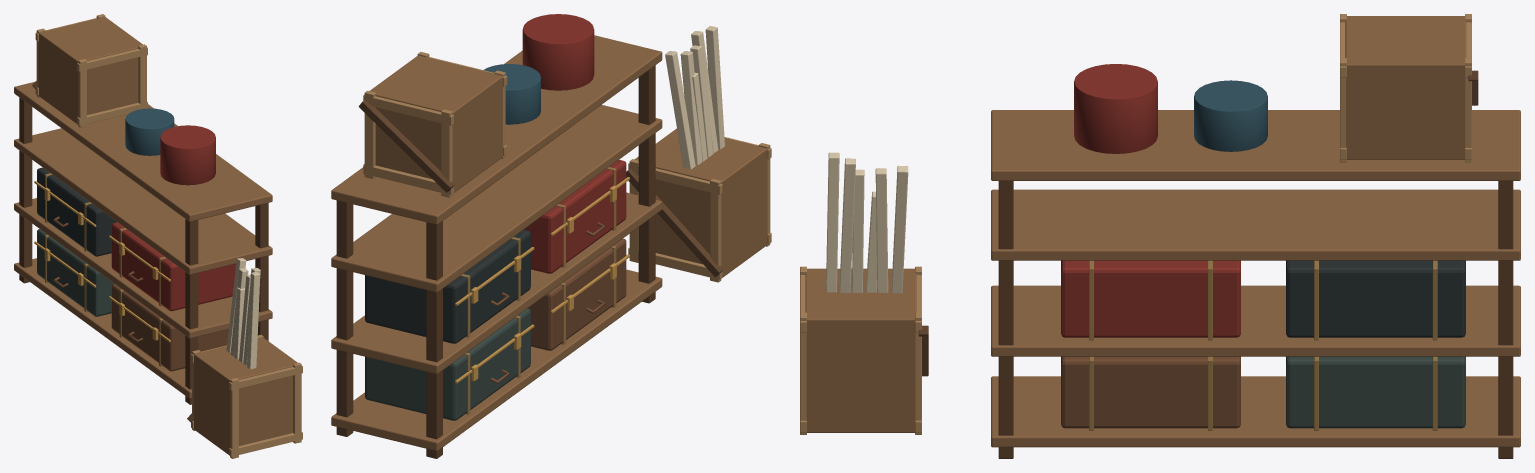
Rendered from SM_CP_BackstageStorage.fbx.
The picture shows the model from 3 angles, left to right: view 1: azimuth 30°, elevation 25°; view 2: azimuth 150°, elevation 25°; view 3: azimuth 270°, elevation 25°; orthographic projection. The views are drawn at different scales.
Visible parts, largest first — view 1: SM_CP_BackstageStorage; view 2: SM_CP_BackstageStorage; view 3: SM_CP_BackstageStorage.
Part boxes in pixels (box(x1,y1,x2,y2)): SM_CP_BackstageStorage: box(14, 14, 302, 458); SM_CP_BackstageStorage: box(331, 14, 771, 458); SM_CP_BackstageStorage: box(800, 14, 1520, 458).
Size of what is drawn, in the model's own units: 186 by 721 by 431.
